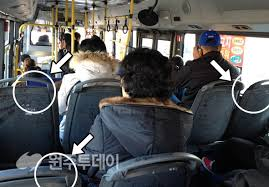seat: (6, 71, 56, 143)
